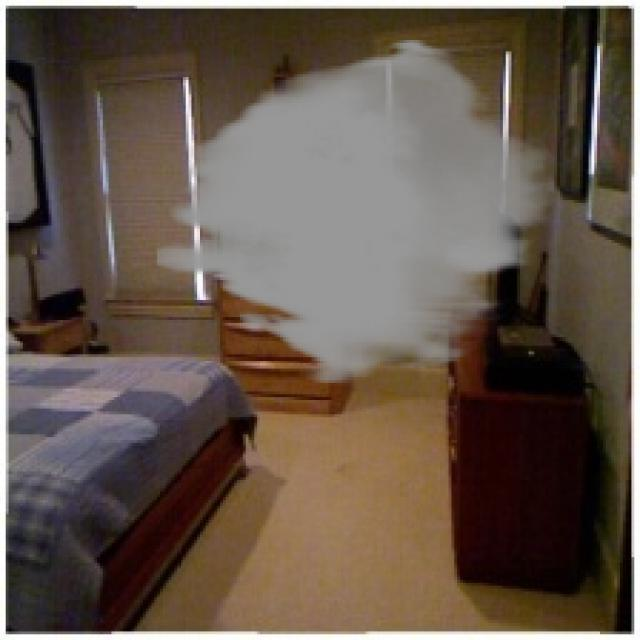Smoke: (157, 37, 554, 386)
